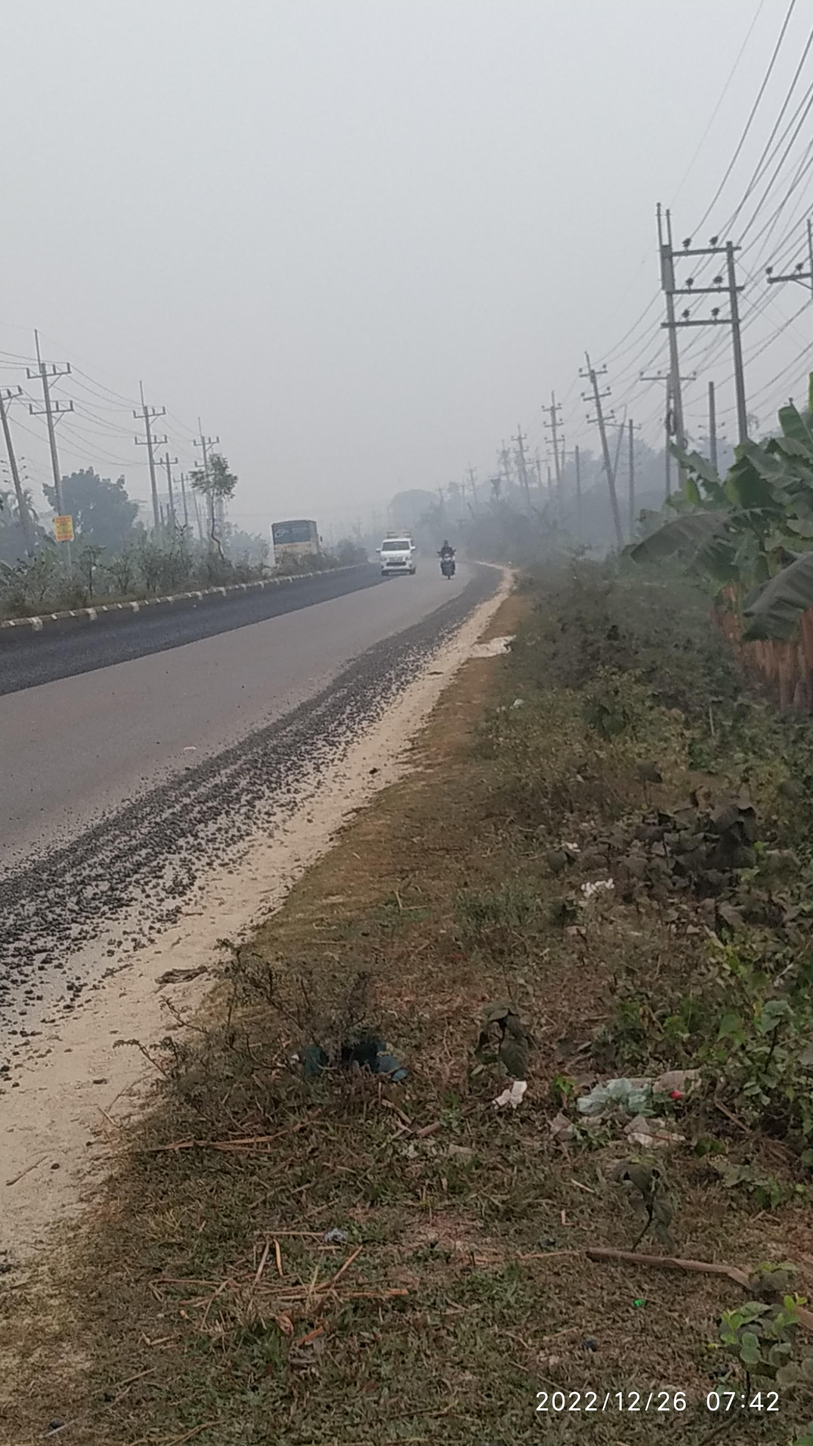Bike: (432, 539, 473, 586)
Car: (370, 530, 427, 586)
Truck: (262, 500, 332, 568)
